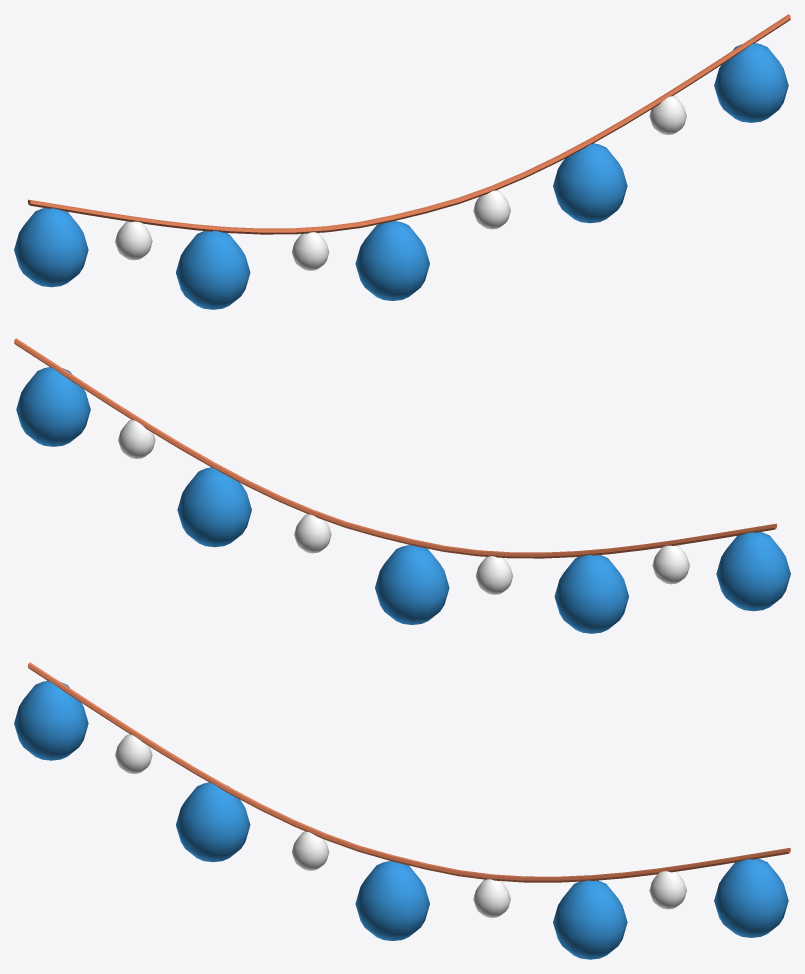
Rendered from decor1.fbx.
The picture shows the model from 3 angles, top to bottom: view 1: azimuth 30°, elevation 25°; view 2: azimuth 150°, elevation 25°; view 3: azimuth 330°, elevation 25°; orthographic projection.
Parts seen in each view (by area): view 1: Cylinder, Sphere.002, Sphere, Sphere.001, Sphere.003, Sphere.004, Sphere.005, Sphere.006, Sphere.007, Sphere.008; view 2: Cylinder, Sphere.002, Sphere, Sphere.001, Sphere.003, Sphere.004, Sphere.005, Sphere.006, Sphere.007, Sphere.008; view 3: Cylinder, Sphere.003, Sphere.002, Sphere.004, Sphere.001, Sphere, Sphere.007, Sphere.008, Sphere.006, Sphere.005.
Part boxes in pixels (x1,y1,x2,y2): Cylinder: (27,14,790,234); Sphere.002: (355,221,429,300); Sphere: (14,208,88,287); Sphere.001: (176,231,250,309); Sphere.003: (553,143,627,223); Sphere.004: (714,43,788,122); Sphere.005: (115,221,152,260); Sphere.006: (292,232,329,270); Sphere.007: (473,190,510,229); Sphere.008: (649,95,686,134); Cylinder: (14,338,777,558); Sphere.002: (375,545,449,624); Sphere: (716,532,790,611); Sphere.001: (554,555,628,633); Sphere.003: (177,467,251,547); Sphere.004: (16,367,90,446); Sphere.005: (652,545,689,584); Sphere.006: (475,556,512,594); Sphere.007: (294,514,331,553); Sphere.008: (118,419,155,458); Cylinder: (27,662,790,882); Sphere.003: (553,880,627,959); Sphere.002: (355,861,429,940); Sphere.004: (714,858,788,937); Sphere.001: (176,782,250,862); Sphere: (14,680,88,760); Sphere.007: (473,879,510,917); Sphere.008: (649,871,686,909); Sphere.006: (292,831,329,870); Sphere.005: (115,734,152,773).
Size of the model in its own units: 2614 by 604 by 219.
